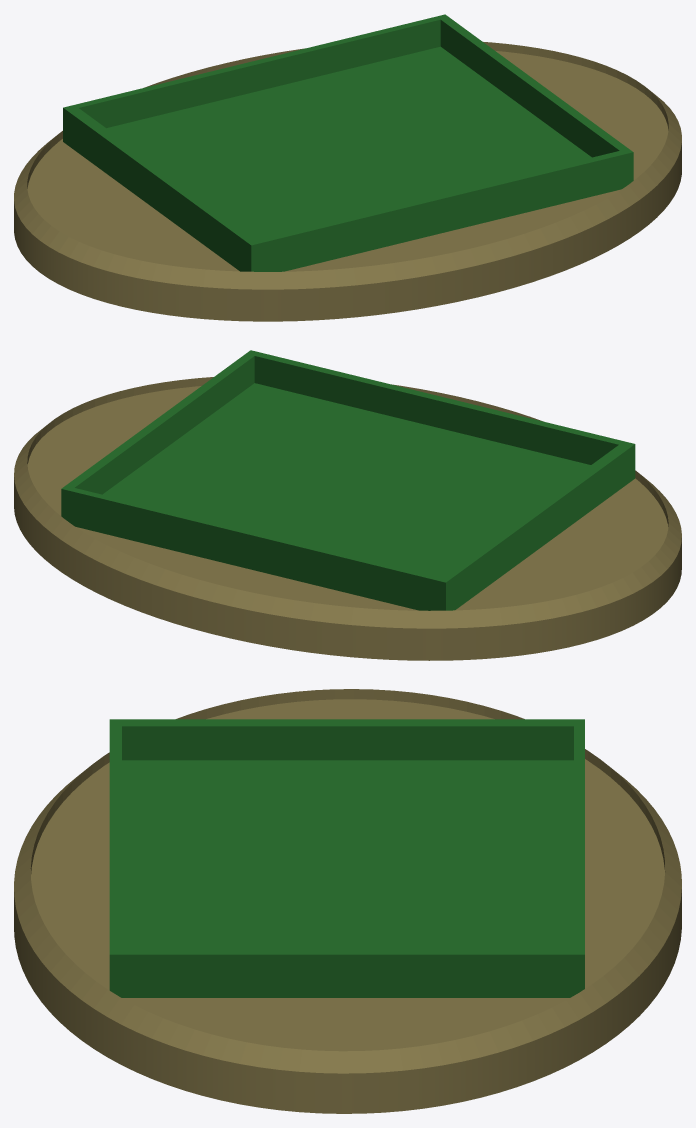
The model's file is SurfaceTable.fbx.
3 renders of one model, top to bottom at view 1: azimuth 30°, elevation 25°; view 2: azimuth 150°, elevation 25°; view 3: azimuth 270°, elevation 25°, orthographic. The views are drawn at different scales.
Visible parts, largest first — view 1: polySurface1, TableTop; view 2: polySurface1, TableTop; view 3: polySurface1, TableTop.
Part boxes in pixels (box(x1,y1,x2,y2)): polySurface1: box(63, 14, 633, 271); TableTop: box(14, 42, 681, 321); polySurface1: box(61, 350, 635, 610); TableTop: box(14, 377, 681, 660); polySurface1: box(109, 719, 584, 997); TableTop: box(14, 689, 681, 1113).
Size of the model in its own units: 159 by 17.46 by 119.
